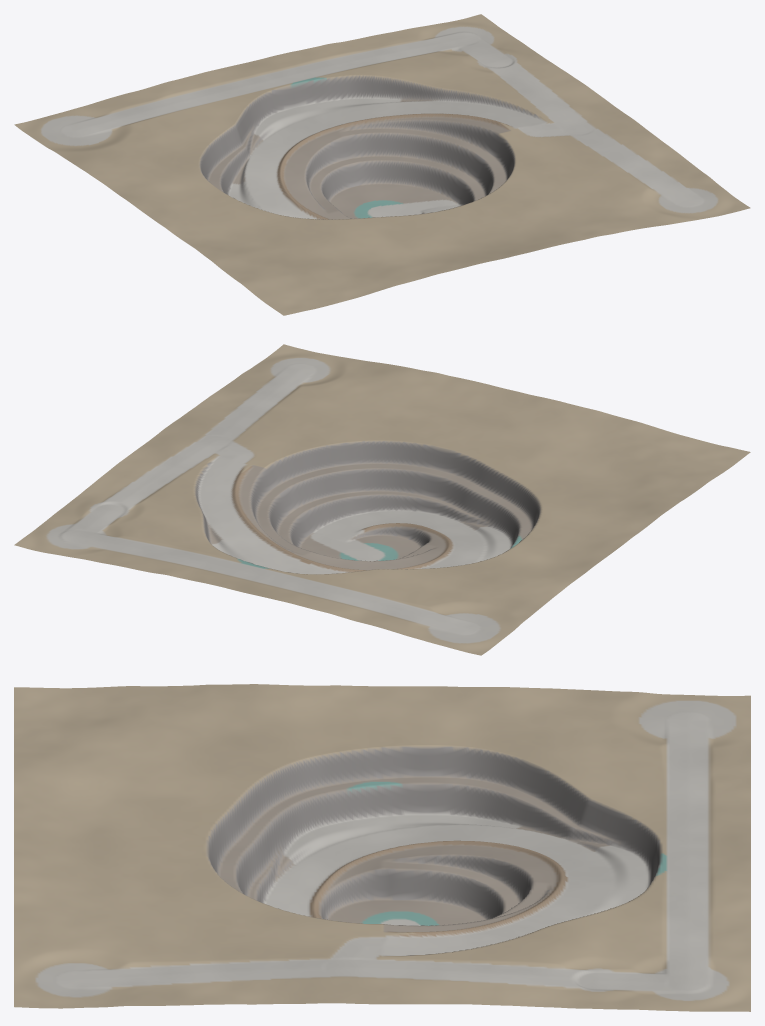
The model's file is terrain.glb.
3 views of the same model, one above another, from view 1: azimuth 30°, elevation 25°; view 2: azimuth 150°, elevation 25°; view 3: azimuth 270°, elevation 25° (orthographic). The views are drawn at different scales.
Parts seen in each view (by area): view 1: geometry_0; view 2: geometry_0; view 3: geometry_0.
Boxes of the visible parts, box(x1,y1,x2,y2) form: geometry_0: box(14, 14, 750, 315); geometry_0: box(14, 344, 750, 655); geometry_0: box(14, 684, 750, 1011).
Bounding box in the file's own units: 260 × 33.57 × 260.
